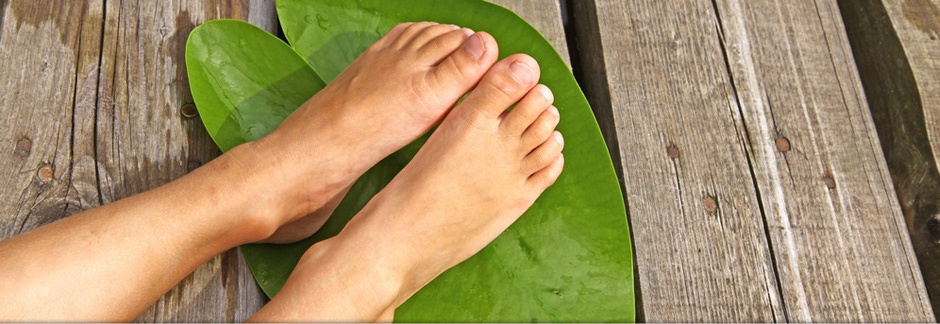feet: (310, 22, 569, 306), (226, 11, 499, 249)
